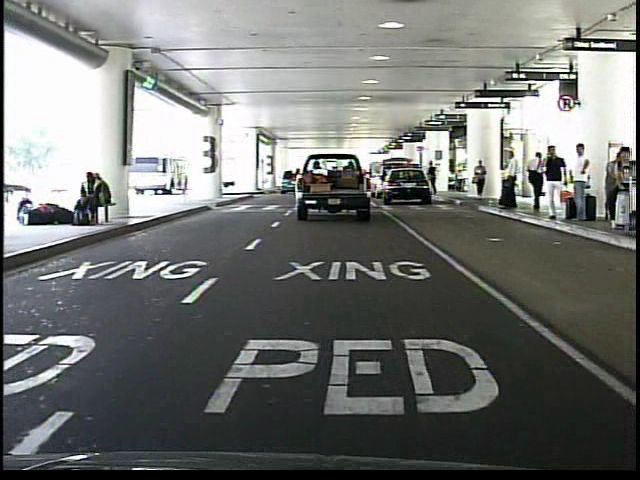person: (569, 137, 596, 231), (540, 142, 570, 225), (497, 148, 523, 213), (524, 146, 548, 213), (472, 159, 489, 203), (427, 161, 440, 199)
